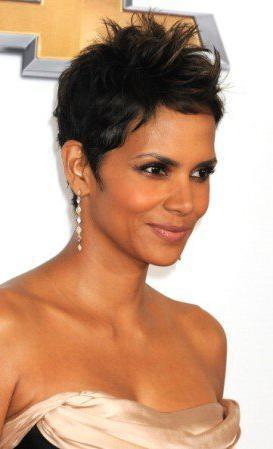Sober: (101, 104, 210, 262)
